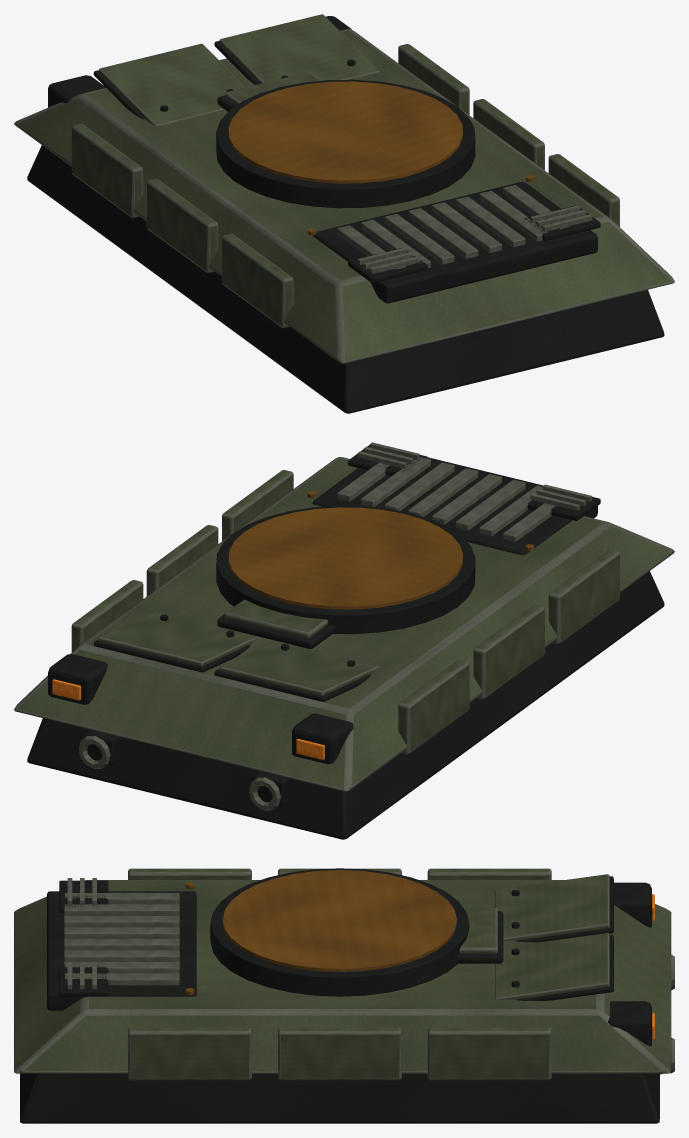
File: foundry-hull.fbx
3 views of the same model, one above another, from view 1: azimuth 30°, elevation 25°; view 2: azimuth 150°, elevation 25°; view 3: azimuth 270°, elevation 25° (orthographic).
Visible parts, largest first — view 1: foundry-hull_Armor, foundry-hull_Steel, foundry-hull_Brass, foundry-hull_Edge; view 2: foundry-hull_Armor, foundry-hull_Steel, foundry-hull_Brass, foundry-hull_Edge, foundry-hull_Optic; view 3: foundry-hull_Armor, foundry-hull_Steel, foundry-hull_Brass, foundry-hull_Edge.
Boxes of the visible parts, box(x1,y1,x2,y2) form: foundry-hull_Armor: box(14, 14, 674, 363); foundry-hull_Steel: box(27, 16, 664, 413); foundry-hull_Brass: box(228, 81, 534, 235); foundry-hull_Edge: box(337, 185, 592, 273); foundry-hull_Armor: box(14, 457, 674, 791); foundry-hull_Steel: box(27, 445, 664, 839); foundry-hull_Brass: box(228, 491, 534, 609); foundry-hull_Edge: box(78, 442, 592, 810); foundry-hull_Optic: box(52, 679, 324, 759); foundry-hull_Armor: box(14, 868, 671, 1080); foundry-hull_Steel: box(20, 868, 662, 1123); foundry-hull_Brass: box(185, 870, 456, 995); foundry-hull_Edge: box(64, 878, 674, 1073).
Size of the model in its own units: 286 by 104 by 485.
Materials: 5 (5 with a texture image).
